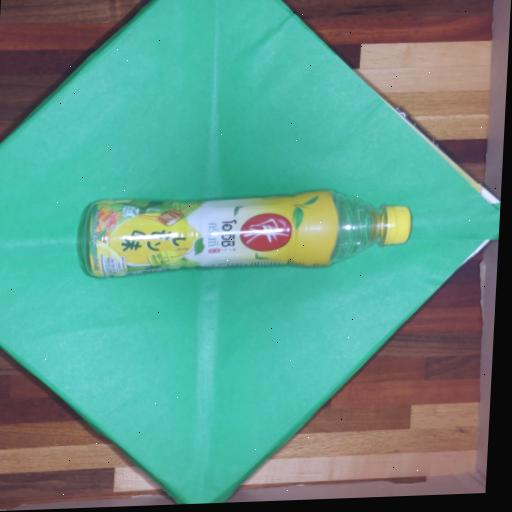bottle: (70, 178, 422, 289)
